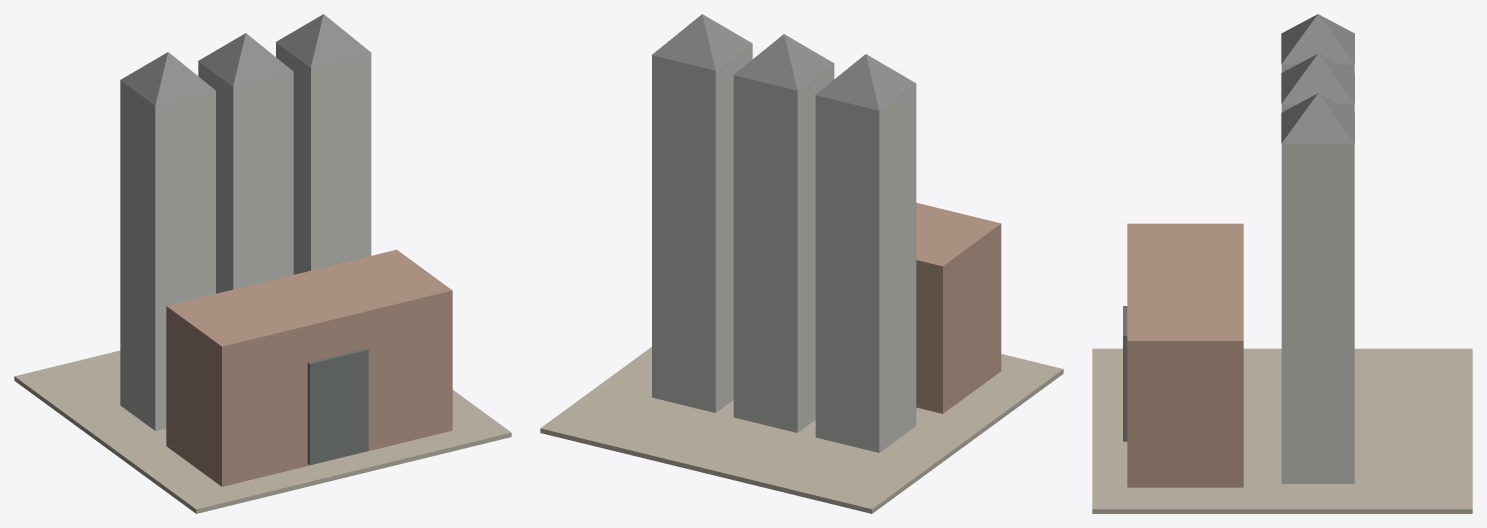
The model's file is elevator_3x3.glb.
3 renders of one model, left to right at view 1: azimuth 30°, elevation 25°; view 2: azimuth 150°, elevation 25°; view 3: azimuth 270°, elevation 25°, orthographic. The views are drawn at different scales.
Parts seen in each view (by area): view 1: elevator_3x3; view 2: elevator_3x3; view 3: elevator_3x3.
Boxes of the visible parts, x1,y1,x2,y2 form: elevator_3x3: (14, 14, 511, 513); elevator_3x3: (540, 14, 1063, 513); elevator_3x3: (1092, 14, 1472, 513).
Bounding box in the file's own units: 5.88 × 6.48 × 5.88.
